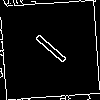I: (25, 25, 69, 66)
